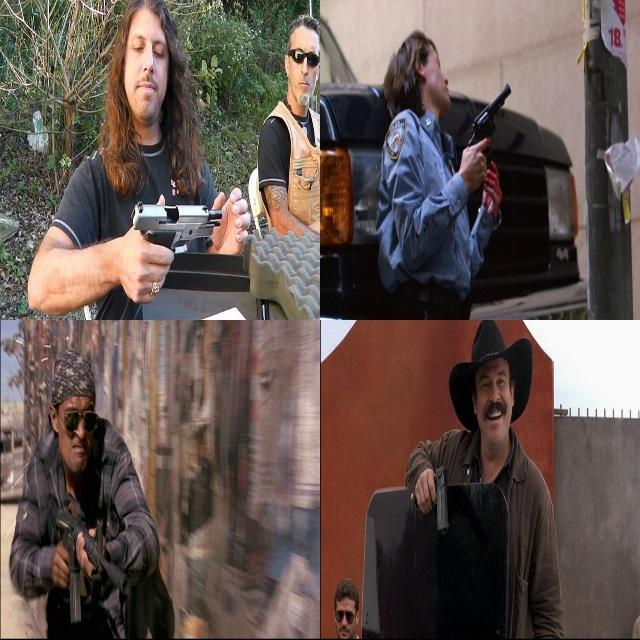gun-knife-thesis - v11 Yolov5 augmented: (43, 492, 133, 627), (126, 193, 225, 302), (464, 77, 513, 188), (408, 459, 445, 530)
